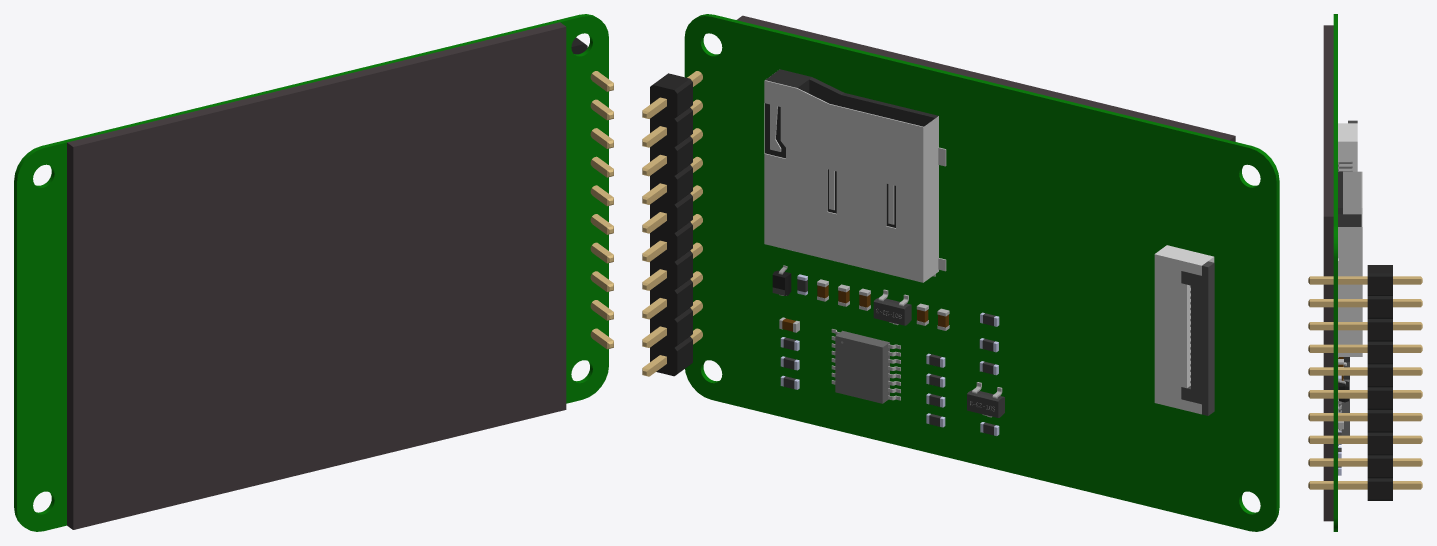
3 renders of one model, left to right at view 1: azimuth 30°, elevation 25°; view 2: azimuth 150°, elevation 25°; view 3: azimuth 270°, elevation 25°, orthographic. The views are drawn at different scales.
Bounding box in the file's own units: 55.02 × 34 × 11.54.
